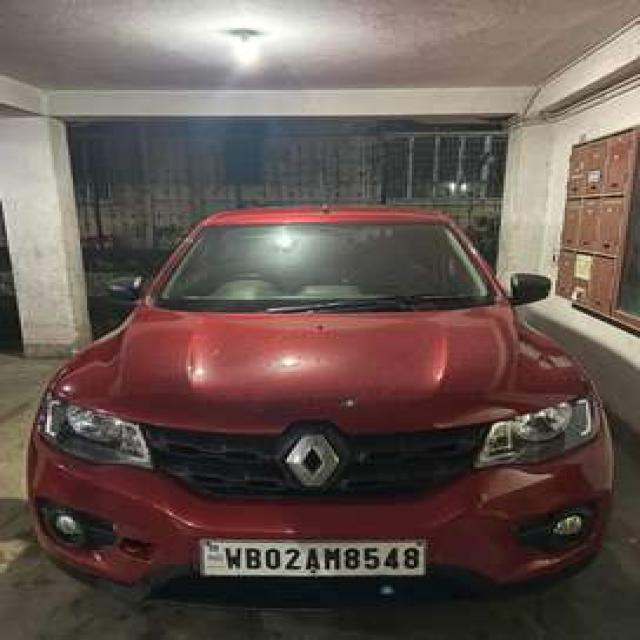Plate: (199, 537, 422, 574)
